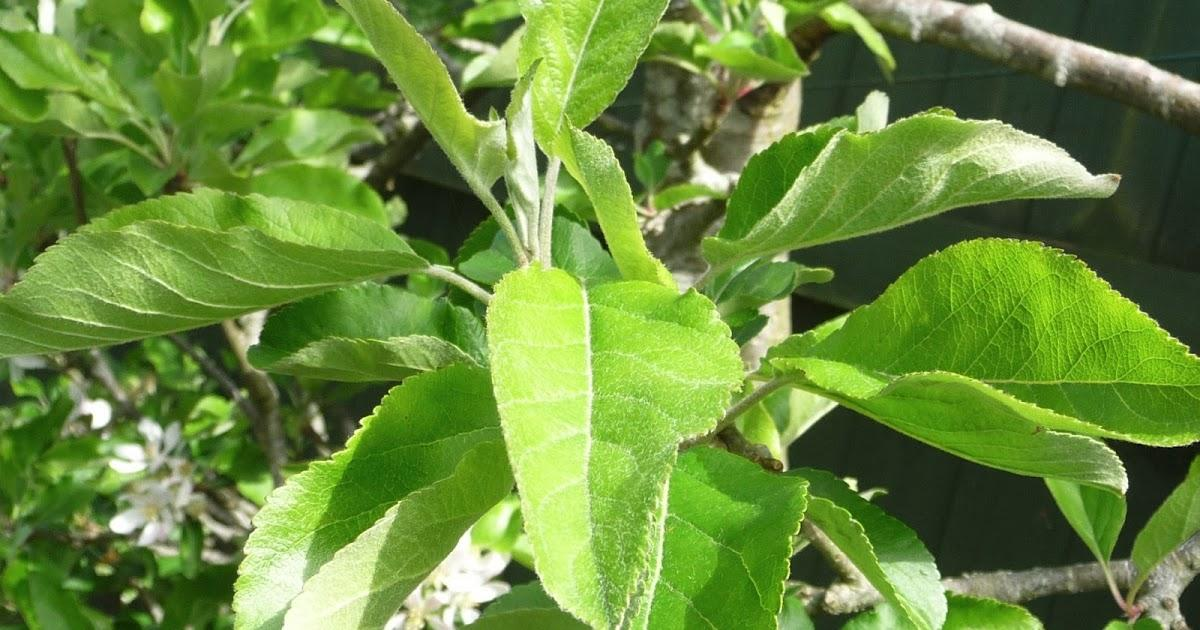Apple leaf: (754, 244, 1200, 484), (466, 251, 743, 629), (682, 103, 1143, 303), (1, 195, 451, 390), (223, 363, 528, 630)
